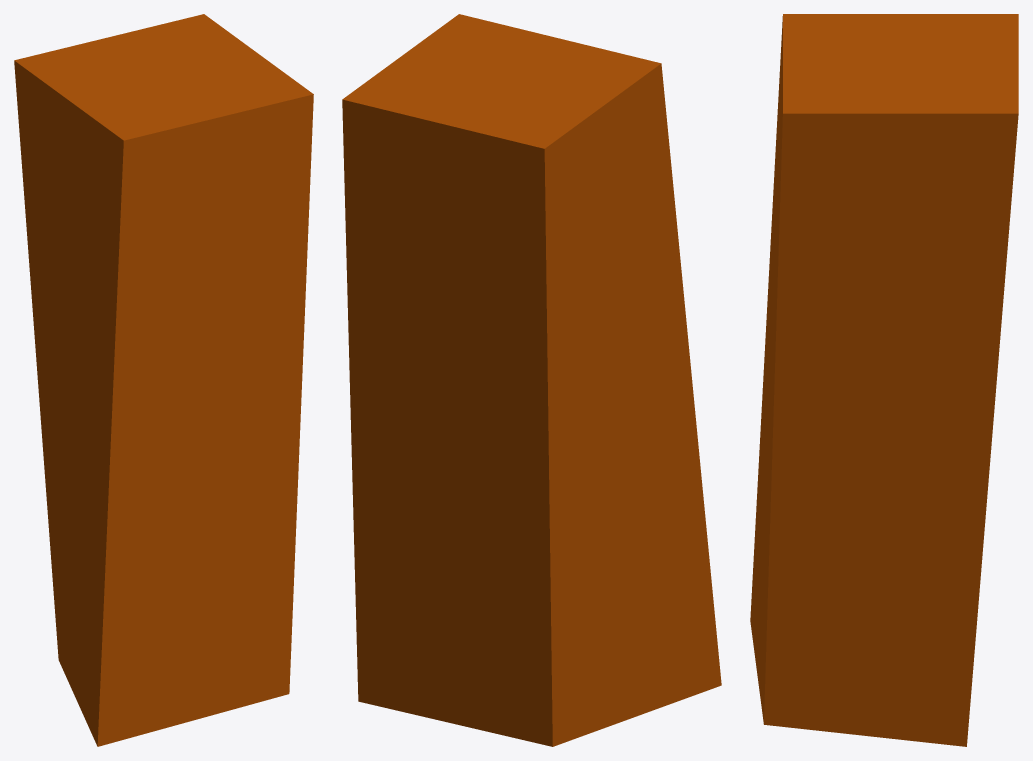
The model's file is pinelog.fbx.
3 renders of one model, left to right at view 1: azimuth 30°, elevation 25°; view 2: azimuth 150°, elevation 25°; view 3: azimuth 270°, elevation 25°, orthographic. The views are drawn at different scales.
Parts seen in each view (by area): view 1: Cube; view 2: Cube; view 3: Cube.
Boxes of the visible parts, x1,y1,x2,y2 form: Cube: (14,14,313,746); Cube: (342,14,721,746); Cube: (750,14,1018,746).
Size of the model in its own units: 129 by 300 by 116.
